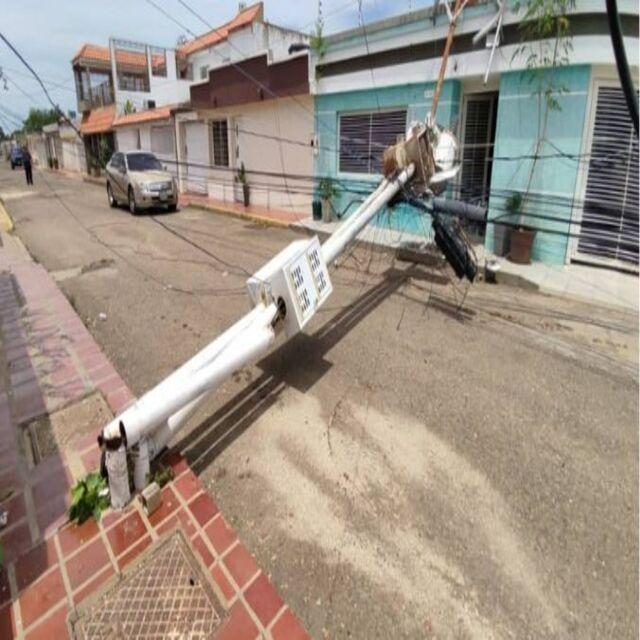Inclined Pole: (82, 114, 502, 505)
